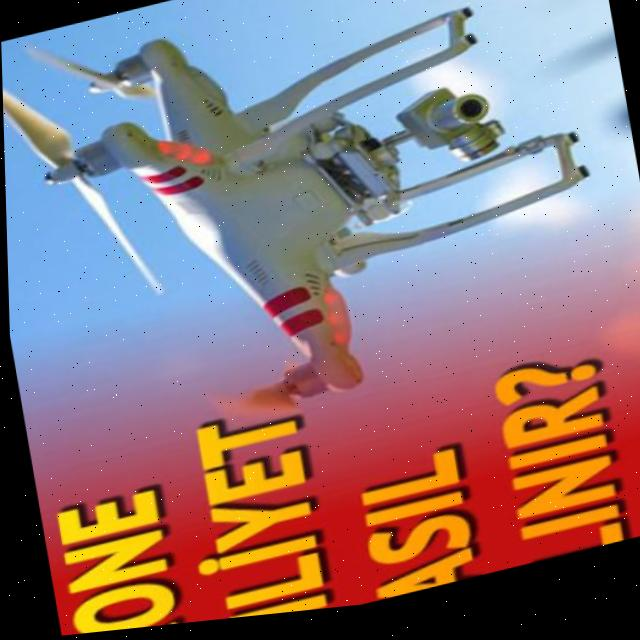drones: (0, 0, 630, 490)
